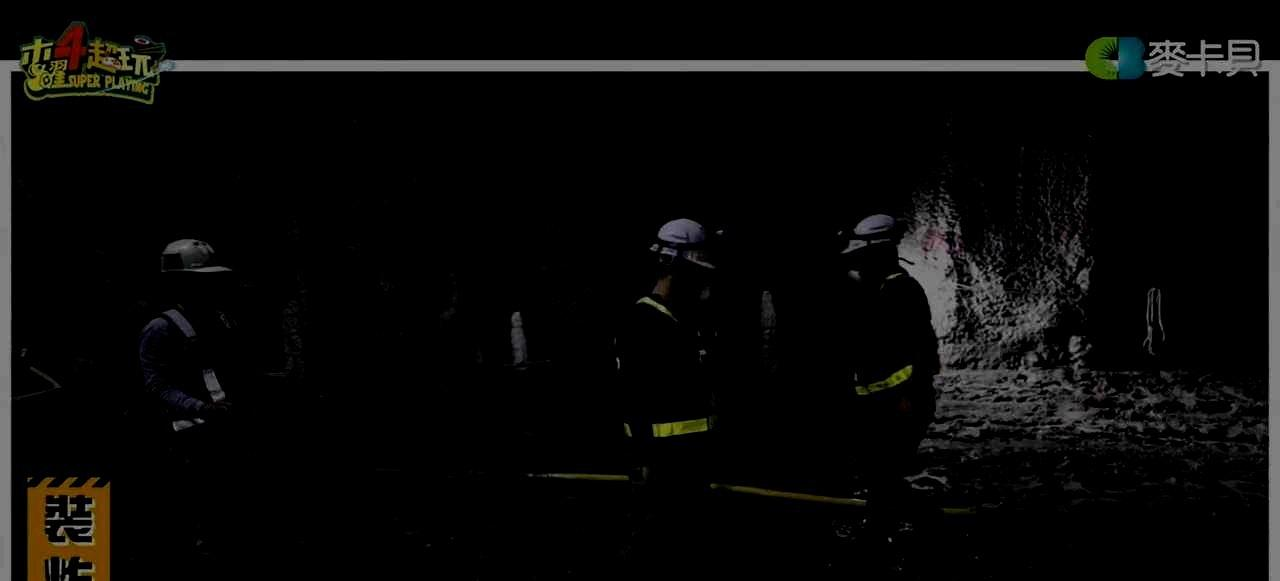helmet: (648, 218, 715, 302), (160, 238, 231, 317), (839, 212, 904, 279)
